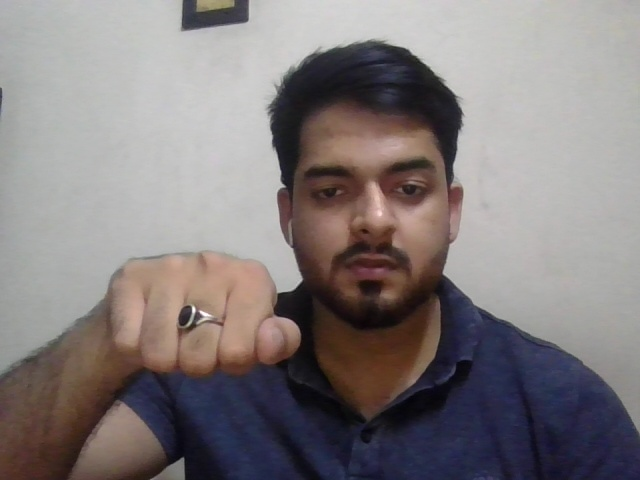yes: (105, 237, 304, 380)
